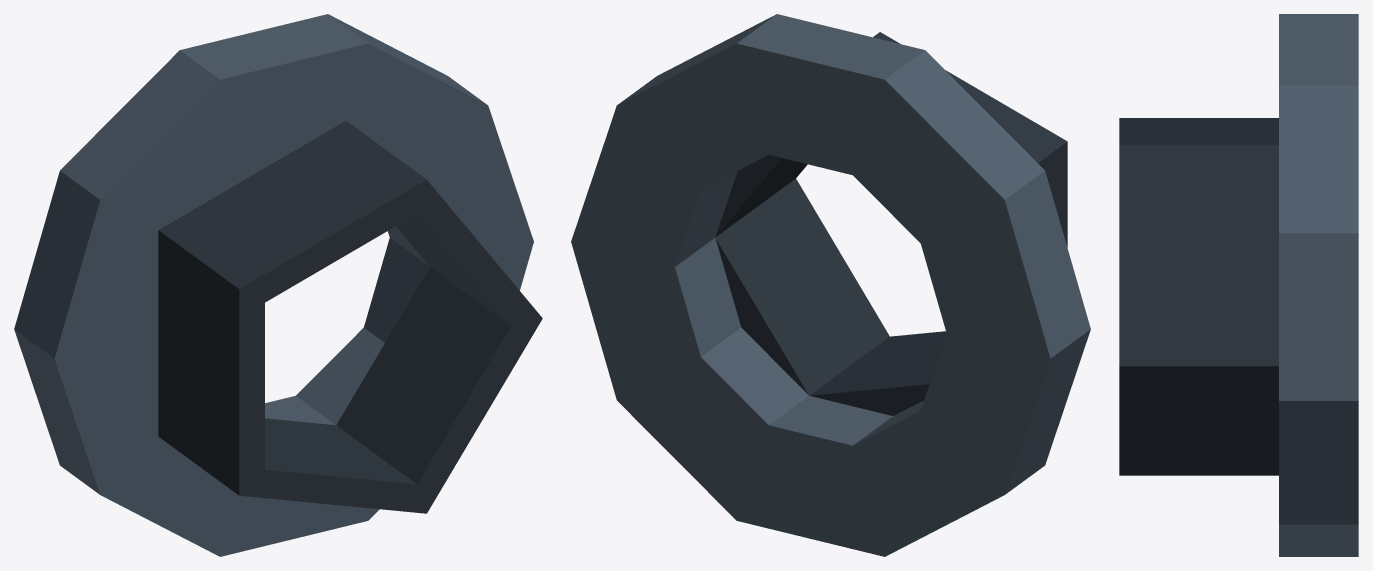
Rendered from K-06_pipe_flange.glb.
3 renders of one model, left to right at view 1: azimuth 30°, elevation 25°; view 2: azimuth 150°, elevation 25°; view 3: azimuth 270°, elevation 25°, orthographic.
Parts seen in each view (by area): view 1: K-06_pipe_flange; view 2: K-06_pipe_flange; view 3: K-06_pipe_flange.
Boxes of the visible parts, x1,y1,x2,y2 form: K-06_pipe_flange: (14, 14, 542, 556); K-06_pipe_flange: (571, 14, 1090, 556); K-06_pipe_flange: (1119, 14, 1358, 556).
Size of the model in its own units: 0.24 by 0.2283 by 0.105.
